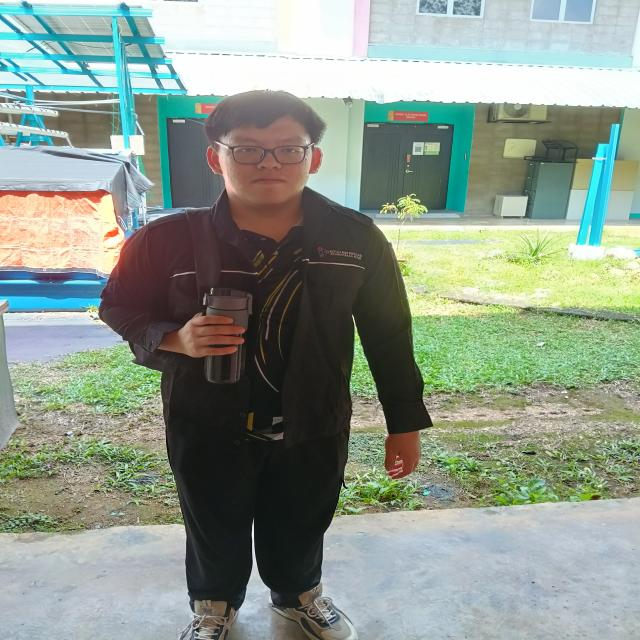person_with_labcoat: (99, 91, 432, 640)
